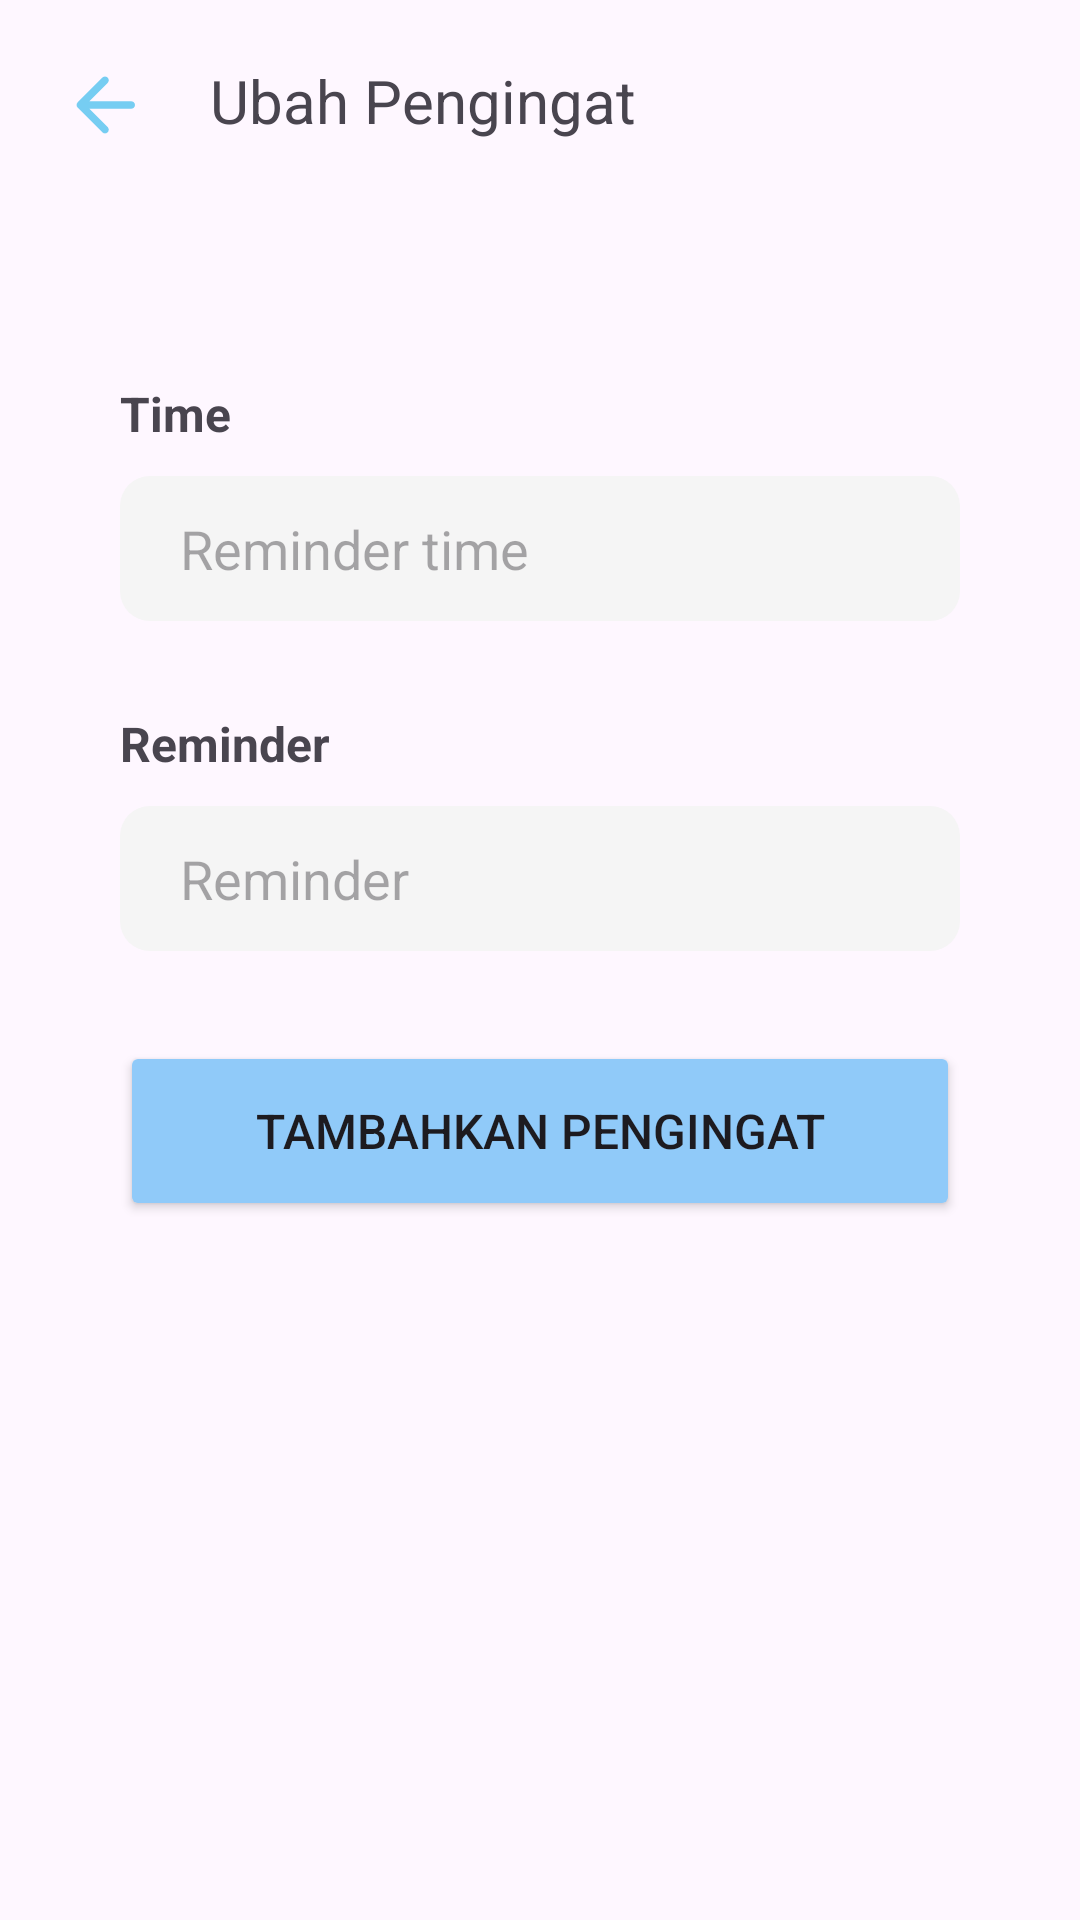

Where to tap for icons on this 1080px×1920px app screen, as (x,y):
arrow back: (105,105)
